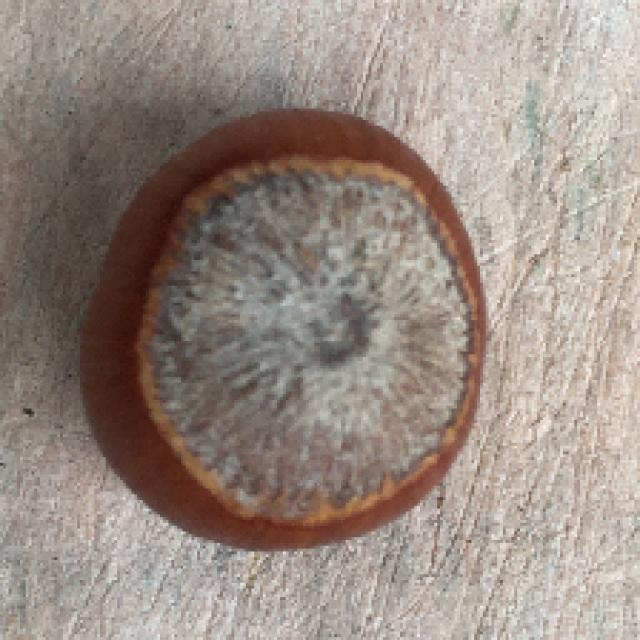QualityHazelnut: (77, 108, 491, 555)
